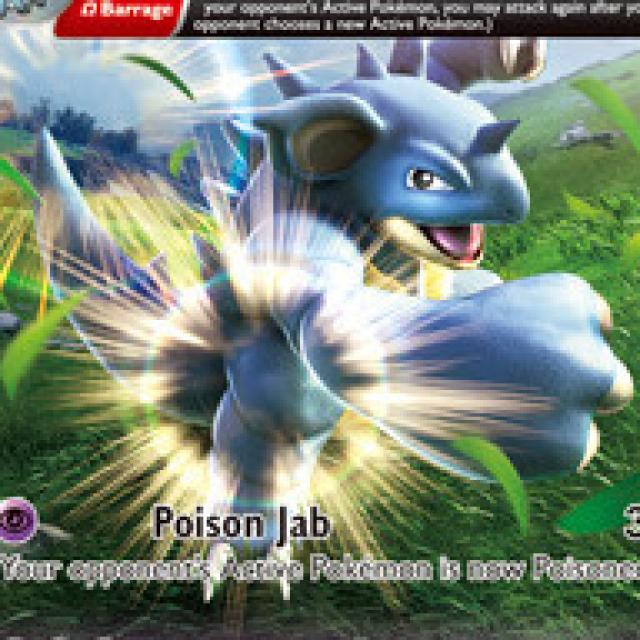Nidoqueen: (42, 68, 640, 507)
